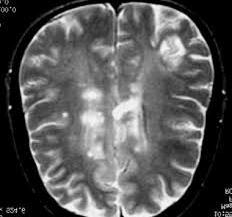Normal_Brain: (2, 6, 229, 217)
